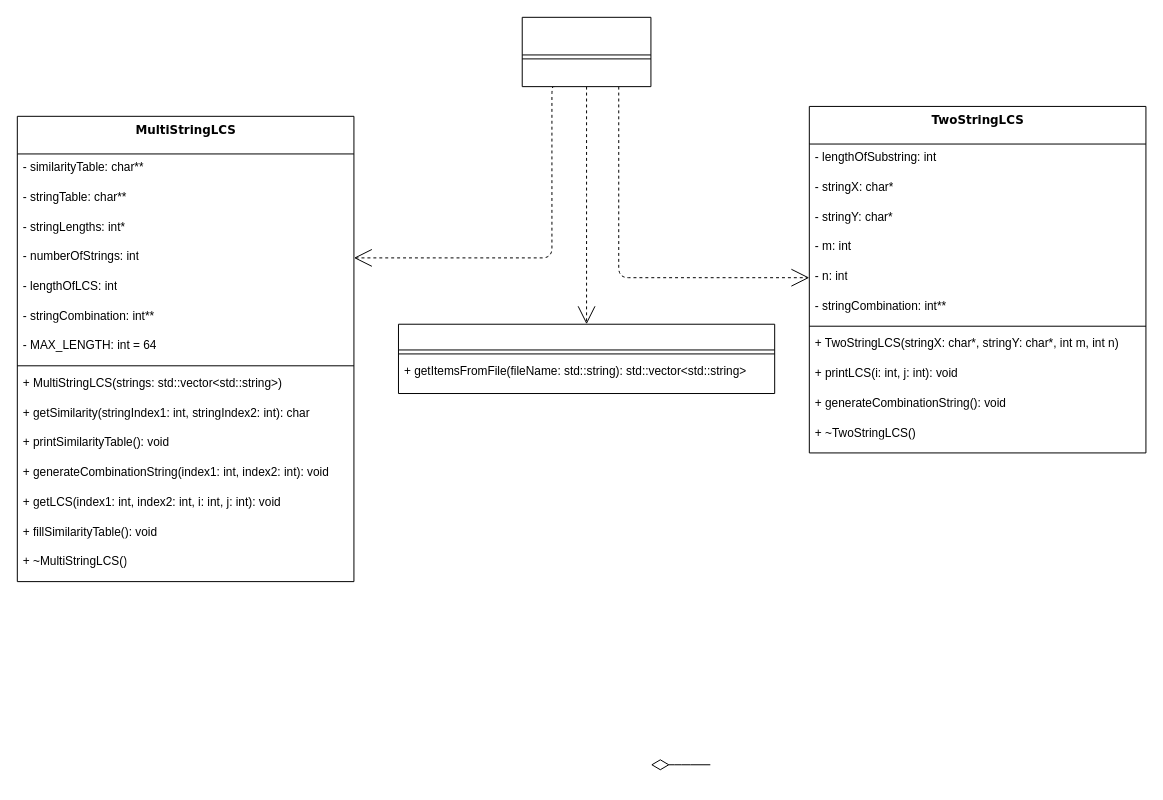
The diagram is 1163 pixels wide and 800 high, and some of its shapes have lost their labels. Each missing label, with the box of its shape:
FileParser: (397, 323, 775, 394)
main: (521, 16, 651, 87)
